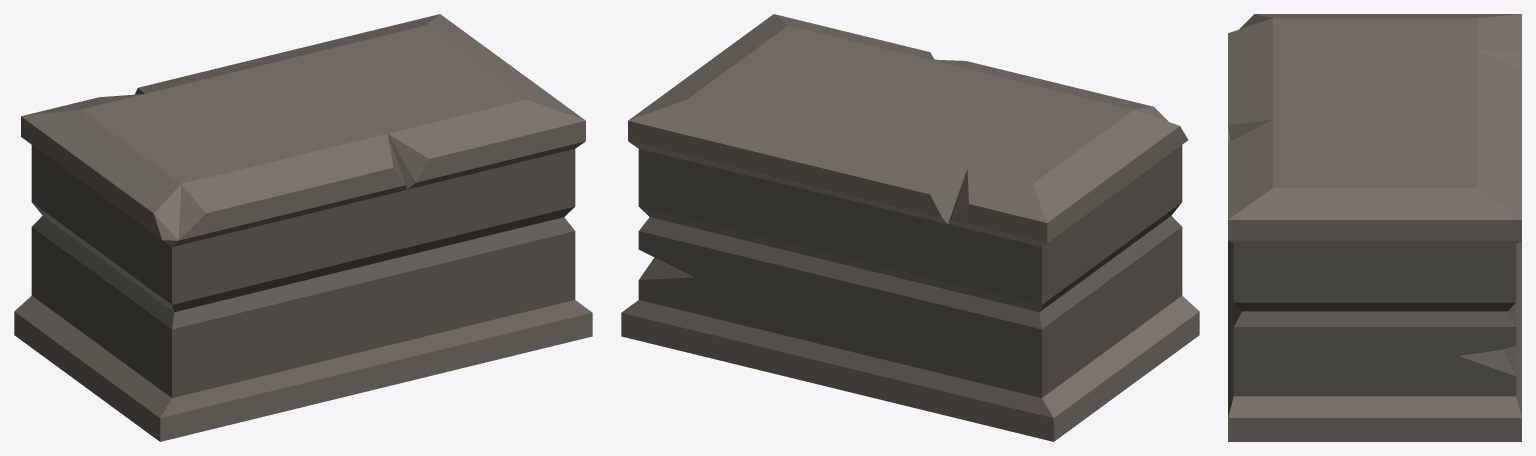
Rendered from SM_Prop_Crate_04.glb.
3 views of the same model, side by side, from view 1: azimuth 30°, elevation 25°; view 2: azimuth 150°, elevation 25°; view 3: azimuth 270°, elevation 25° (orthographic).
Parts seen in each view (by area): view 1: SM_Prop_Crate_04_part00; view 2: SM_Prop_Crate_04_part00; view 3: SM_Prop_Crate_04_part00.
Part boxes in pixels (bbox=[...]): SM_Prop_Crate_04_part00: bbox=[14, 14, 592, 441]; SM_Prop_Crate_04_part00: bbox=[621, 14, 1199, 441]; SM_Prop_Crate_04_part00: bbox=[1228, 14, 1521, 441].
Bounding box in the file's own units: 0.797 × 0.4069 × 0.4657.
Materials: 1 (1 with a texture image).
